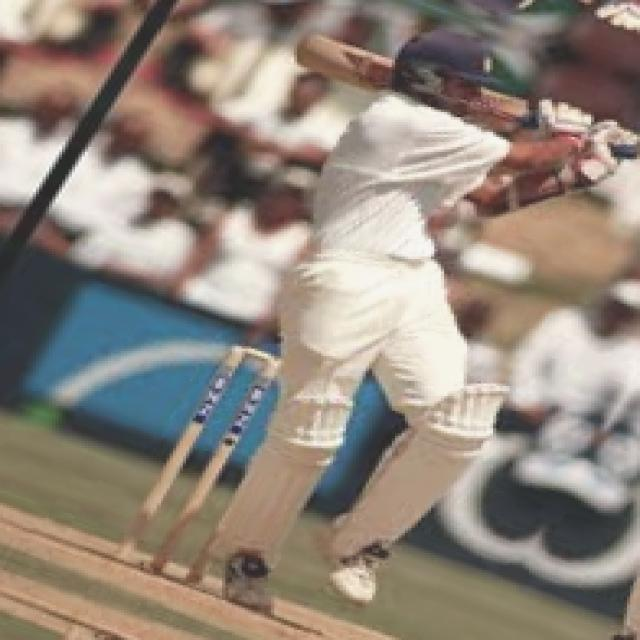toe: (296, 19, 312, 75)
